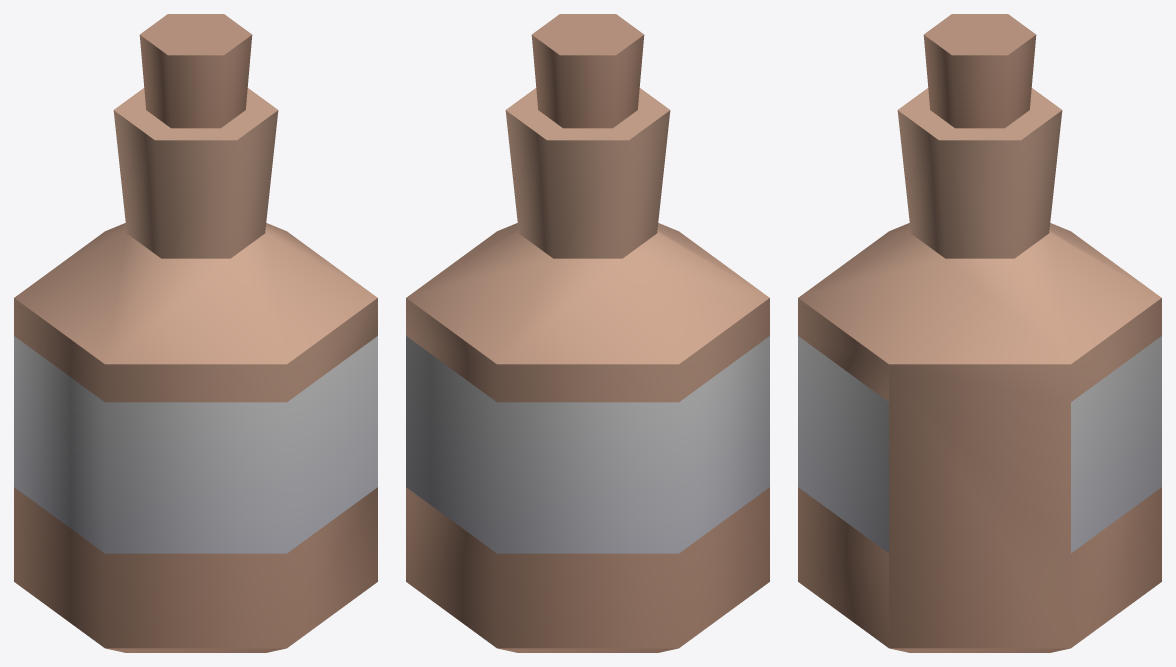
Rendered from bottle-large.glb.
3 views of the same model, side by side, from view 1: azimuth 30°, elevation 25°; view 2: azimuth 150°, elevation 25°; view 3: azimuth 270°, elevation 25° (orthographic).
Visible parts, largest first — view 1: bottle-large; view 2: bottle-large; view 3: bottle-large.
Boxes of the visible parts, left/top/right/bottom form: bottle-large: left=14, top=14, right=377, bottom=652; bottle-large: left=406, top=14, right=769, bottom=652; bottle-large: left=798, top=14, right=1161, bottom=652.
Bounding box in the file's own units: 0.0724 × 0.1439 × 0.0837.
